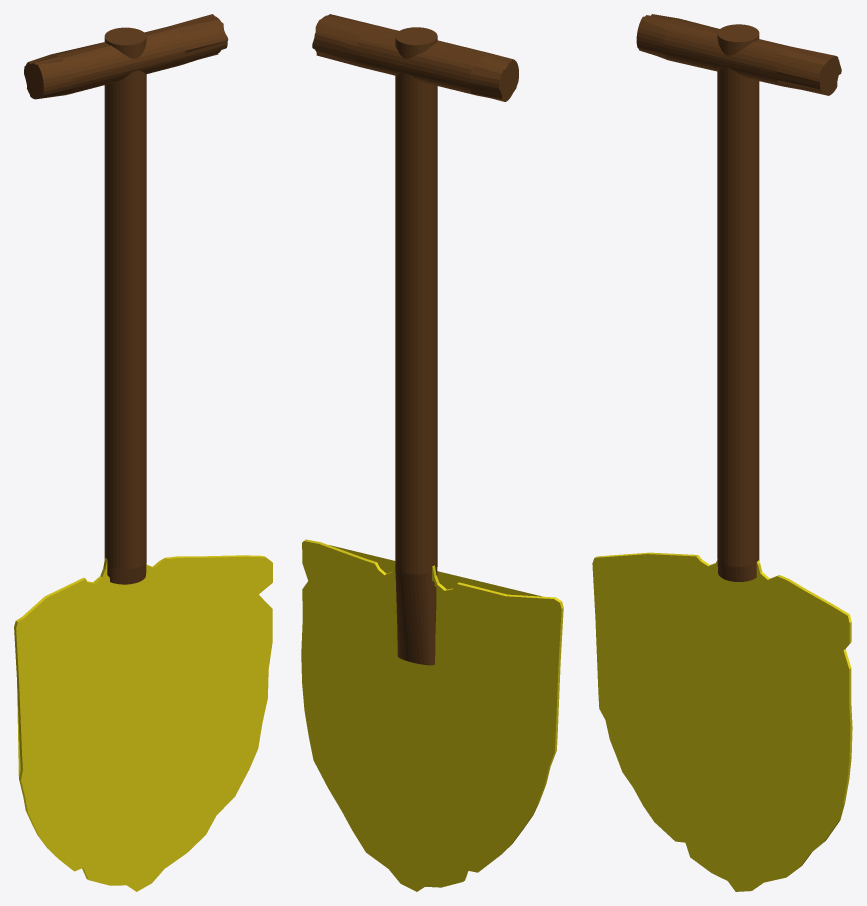
Rendered from Shovel.fbx.
3 renders of one model, left to right at view 1: azimuth 30°, elevation 25°; view 2: azimuth 150°, elevation 25°; view 3: azimuth 330°, elevation 25°, orthographic.
Parts seen in each view (by area): view 1: Head, Handle, Handle.001; view 2: Head, Handle, Handle.001; view 3: Head, Handle, Handle.001.
Boxes of the visible parts, box(x1,y1,x2,y2) form: Head: box(14, 555, 272, 891); Handle: box(104, 27, 146, 584); Handle.001: box(24, 14, 228, 99); Head: box(301, 539, 563, 891); Handle: box(395, 27, 437, 665); Handle.001: box(312, 14, 518, 101); Head: box(592, 552, 852, 891); Handle: box(717, 24, 759, 581); Handle.001: box(636, 14, 841, 95).
Bounding box in the file's own units: 18.6 × 58.93 × 3.7.
